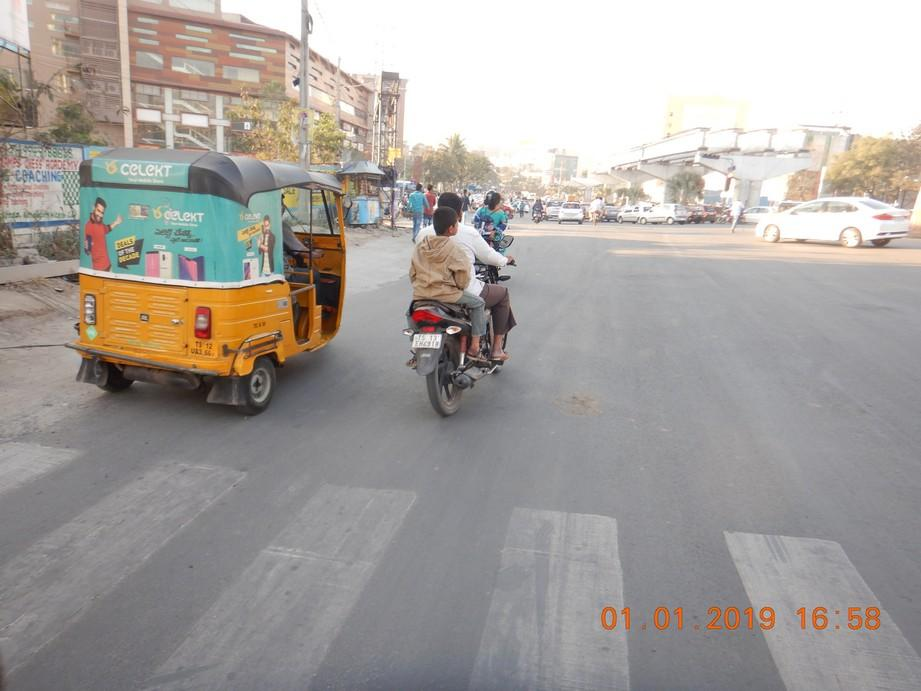plate: (410, 333, 442, 350)
